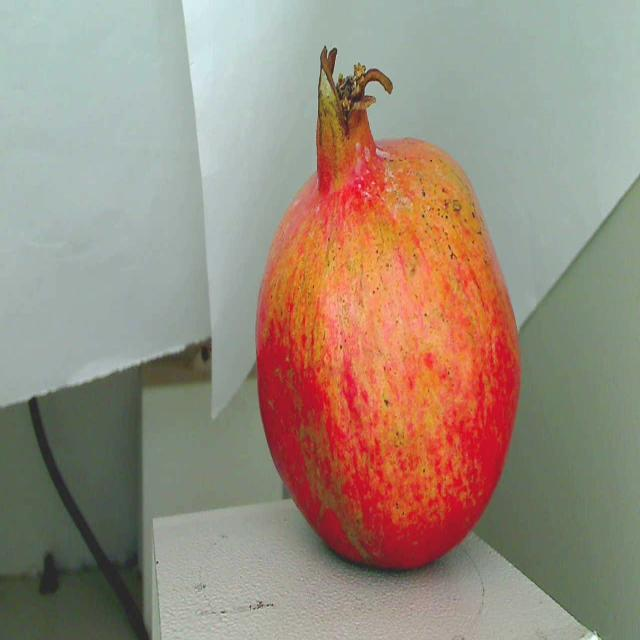pomegranate: (241, 40, 528, 582)
